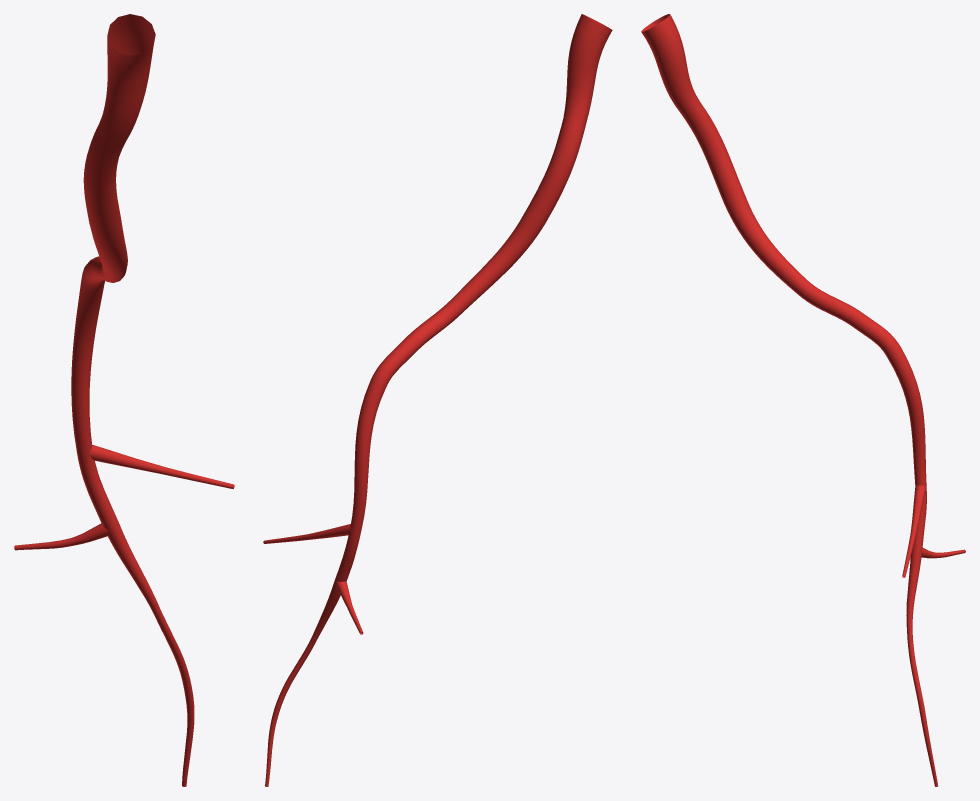
File: circulatorio-inferior-gluteal-veins-l.glb
3 renders of one model, left to right at view 1: azimuth 30°, elevation 25°; view 2: azimuth 150°, elevation 25°; view 3: azimuth 270°, elevation 25°, orthographic. The views are drawn at different scales.
Visible parts, largest first — view 1: Inferior gluteal veins.l; view 2: Inferior gluteal veins.l; view 3: Inferior gluteal veins.l.
Boxes of the visible parts, x1,y1,x2,y2 form: Inferior gluteal veins.l: (14,14,234,786); Inferior gluteal veins.l: (263,14,612,786); Inferior gluteal veins.l: (641,14,965,786).
Size of the model in its own units: 0.0427 by 0.1325 by 0.0569.
